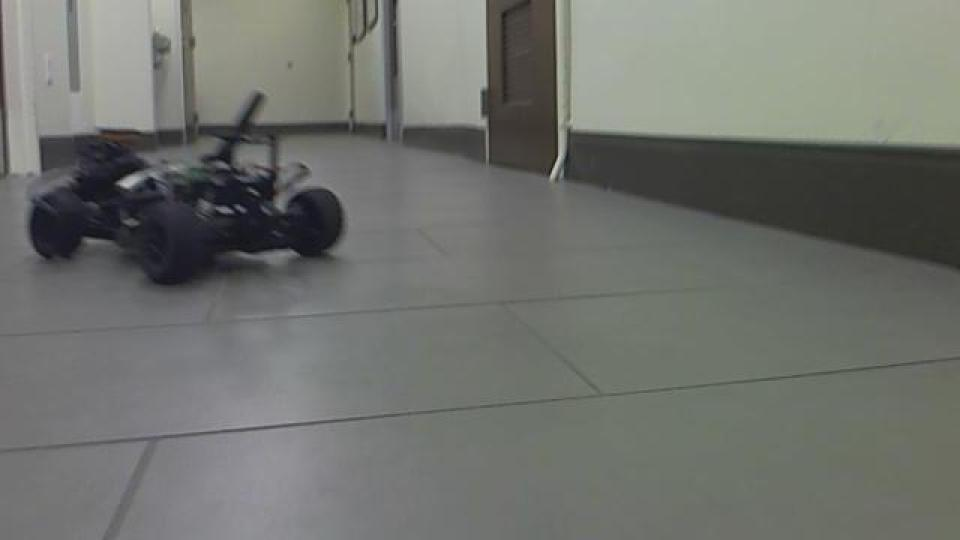car: (21, 87, 348, 288)
